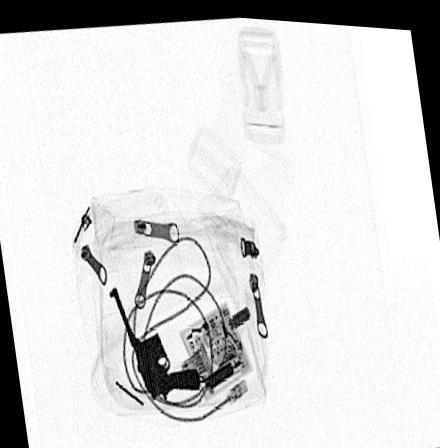Gun: (109, 284, 200, 400)
